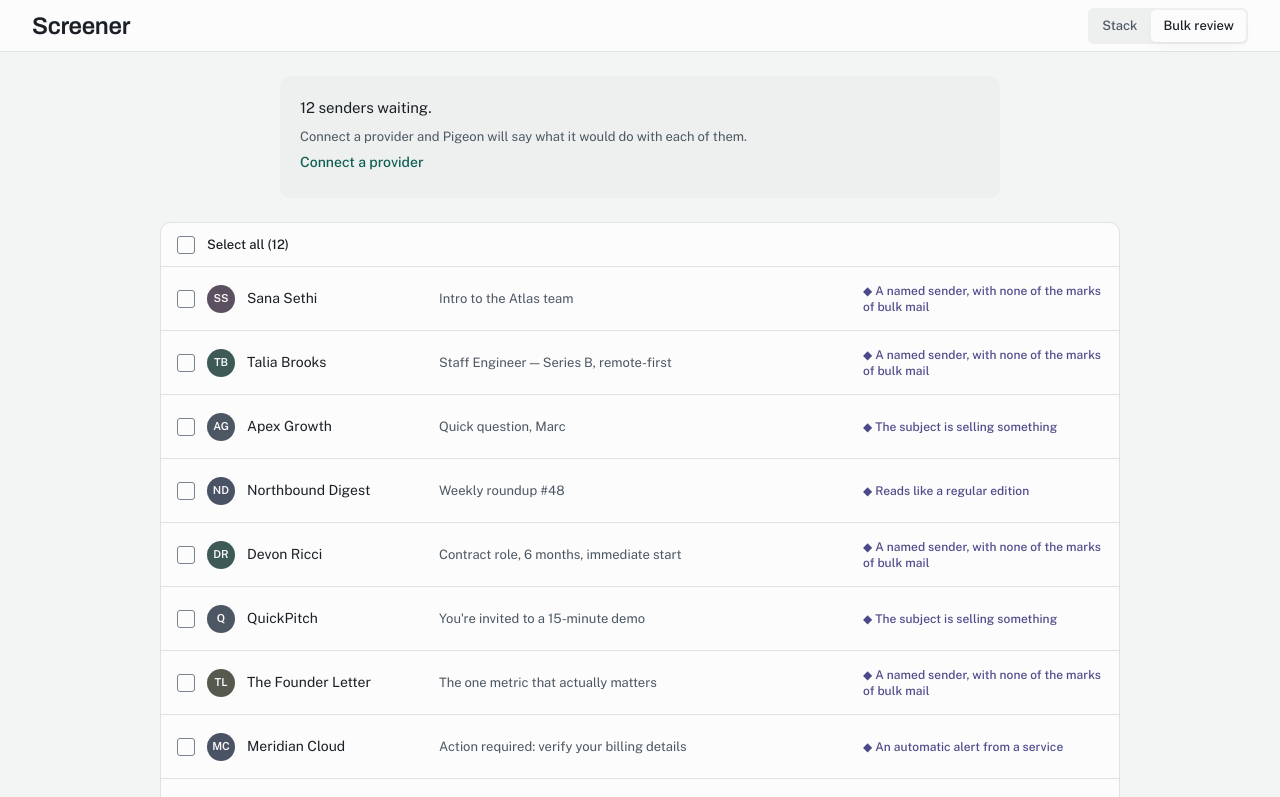
Scenario: a bulk decision that partly fails (§3.3 3b) › still reaches the empty state when everything succeeds
Click the checkbox labelled "Select all (12)": {"x": 186, "y": 244} [177,236,195,254]
(page scrolled)
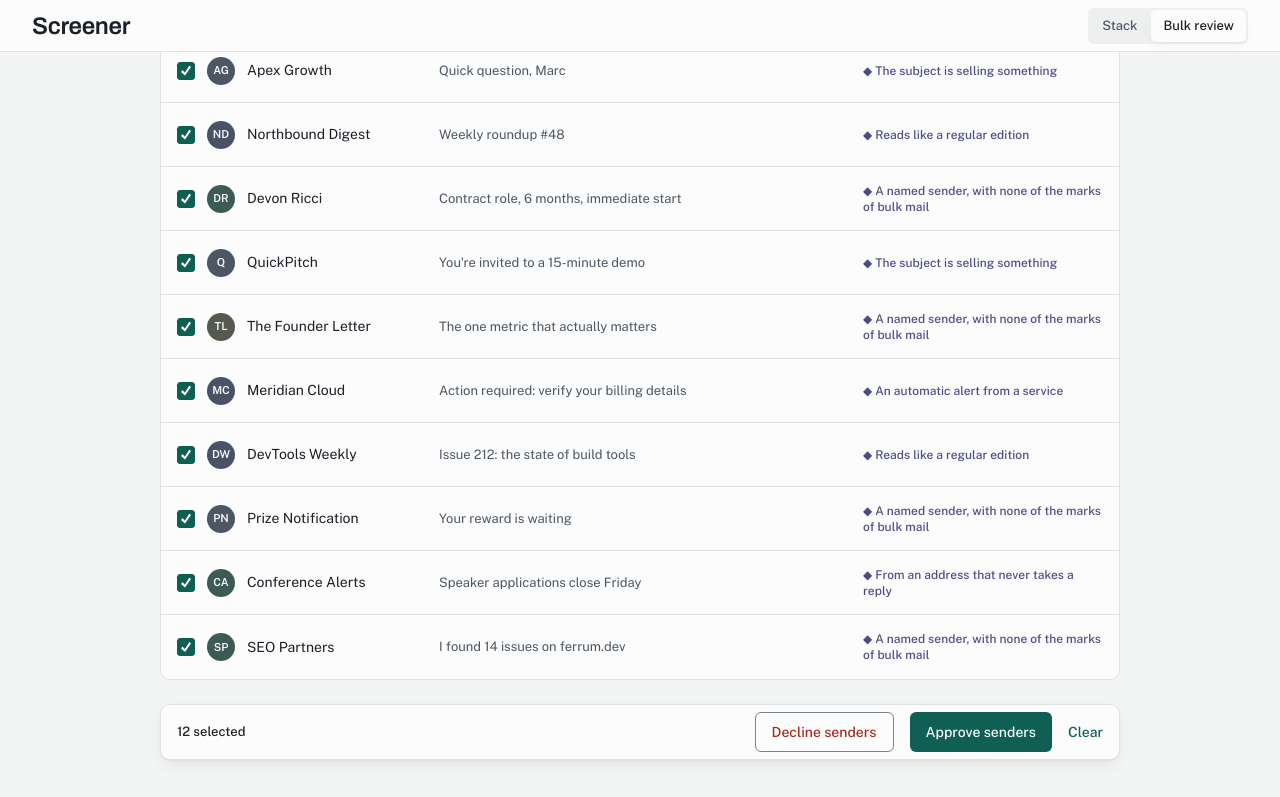
Click the button "Approve senders": {"x": 981, "y": 732} [910,712,1052,752]
(page scrolled)
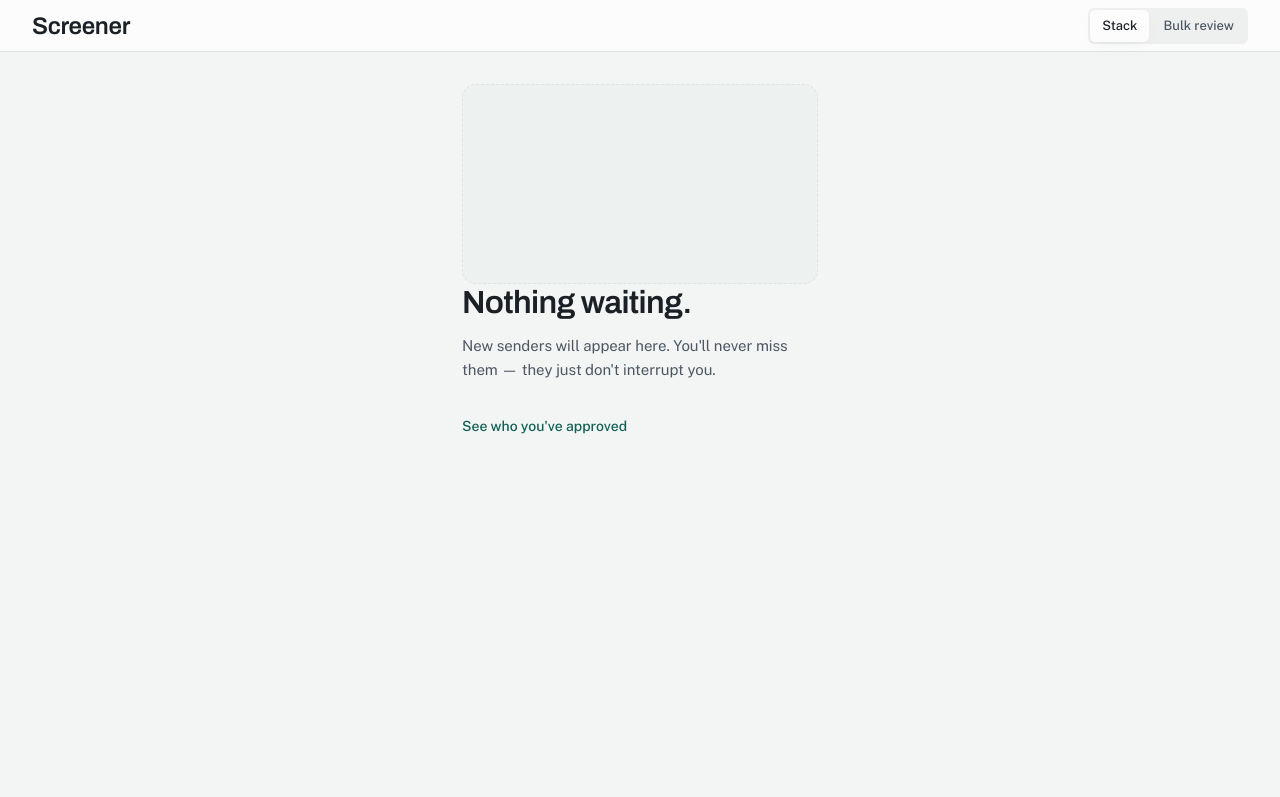
Now the heading "Nothing waiting." is shown, box [462,284,691,322]
